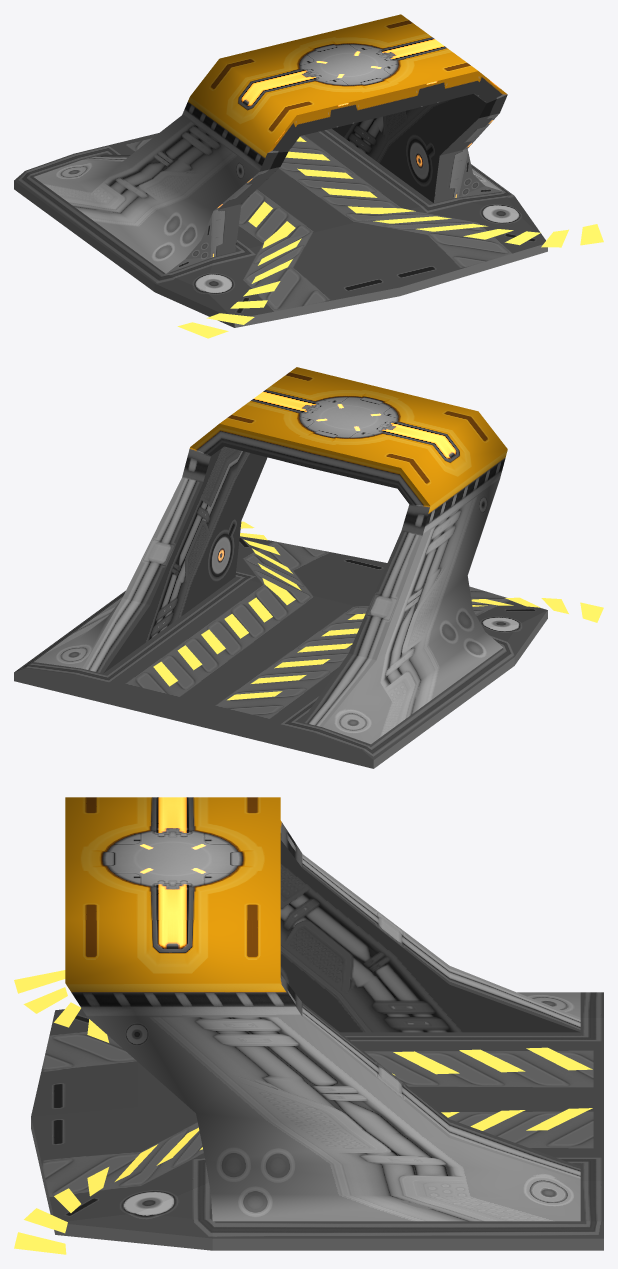
The model's file is entrance.glb.
3 renders of one model, top to bottom at view 1: azimuth 30°, elevation 25°; view 2: azimuth 150°, elevation 25°; view 3: azimuth 270°, elevation 25°, orthographic. The views are drawn at different scales.
Parts seen in each view (by area): view 1: Plane.036; view 2: Plane.036; view 3: Plane.036.
Part boxes in pixels (x1,y1,x2,y2): Plane.036: [14, 14, 603, 338]; Plane.036: [14, 367, 603, 768]; Plane.036: [14, 797, 603, 1254].
Size of the model in its own units: 17.47 by 7.71 by 15.28.
Materials: 1 (1 with a texture image).
